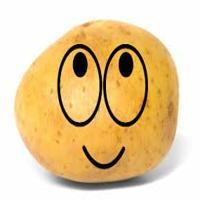biodegradable: (14, 18, 179, 184)
